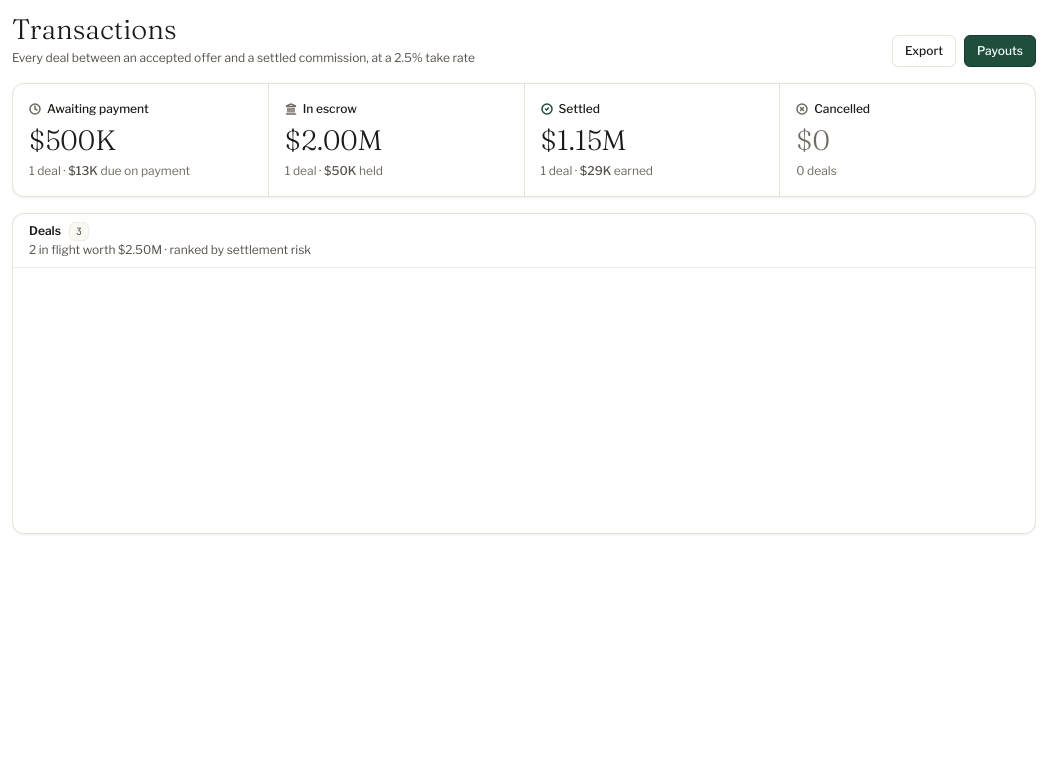
Test case: AdminTransactionsConsole · the stage band › narrows the ledger to the stage that was picked and marks it pressed
Click the button "Settled $1.15M 1 deal · $29K earned".
click(652, 140)  # box left=524, top=84, right=779, bottom=196
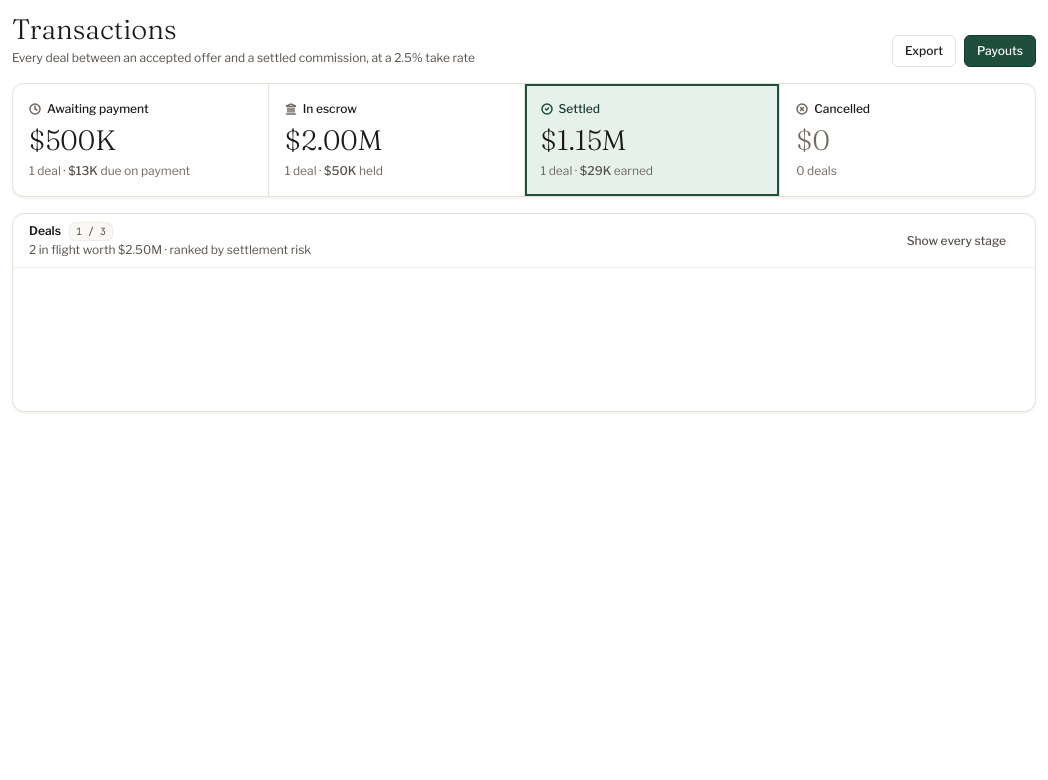
Expected: the text "1 / 3" is shown, left=69, top=222, right=113, bottom=241
